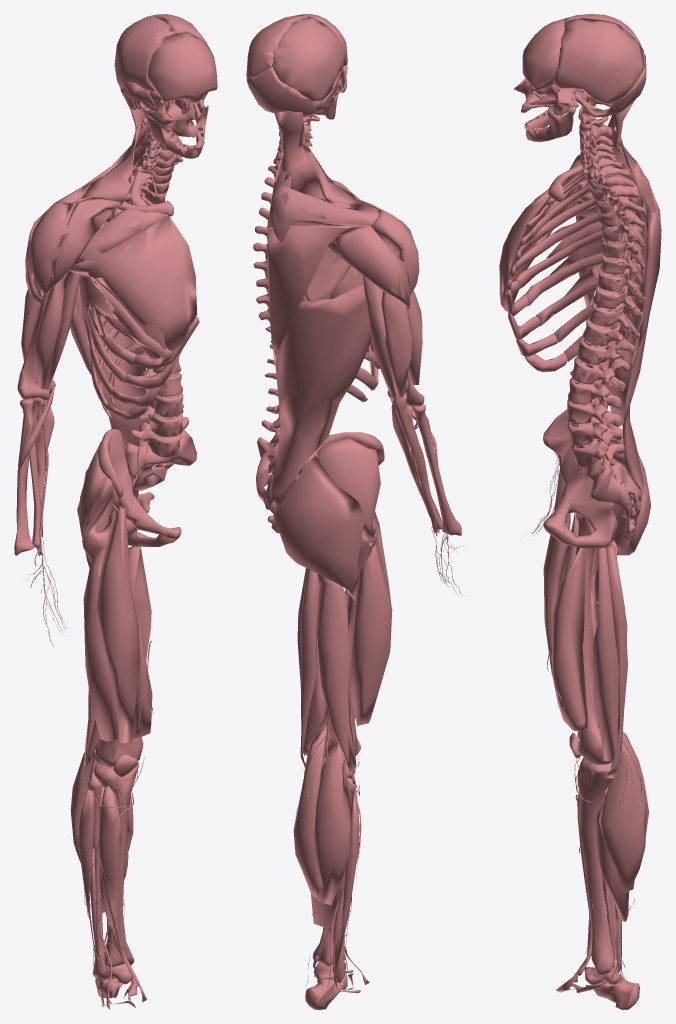
The model's file is muscles.glb.
3 renders of one model, left to right at view 1: azimuth 30°, elevation 25°; view 2: azimuth 150°, elevation 25°; view 3: azimuth 270°, elevation 25°, orthographic. The views are drawn at different scales.
Parts seen in each view (by area): view 1: chest__Sternocostal head of pectoralis major muscle, quads__Rectus femoris, context__Frontal bone, quads__Vastus lateralis muscle, context__Hip bone, chest__Pectoralis major, back__Latissimus dorsi, context__Tibialis anterior muscle, context__Sacrum (×2), context__Parietal bone right, context__Tibia, shoulders__Clavicular part of deltoid muscle (+33 smaller); view 2: back__Latissimus dorsi, glutes__Gluteus maximus muscle, quads__Vastus lateralis muscle, hamstrings__Long head of biceps femoris, back__Ascending part of Trapezius muscle, calves__Lateral head of gastrocnemius, context__Parietal bone right, glutes__Gluteus medius muscle, back__Descending part of Trapezius muscle, shoulders__Spinal part of deltoid muscle, calves__Medial head of gastrocnemius, back__Transverse part of trapezius muscle (+23 smaller); view 3: context__Parietal bone left, quads__Vastus medialis muscle, context__Hip bone, calves__Medial head of gastrocnemius, context__Tibia, hamstrings__Semimembranosus muscle, context__Femur, back__Latissimus dorsi, hamstrings__Semitendinosus muscle, context__Sacrum, back__Serratus anterior muscle, context__Frontal bone (+47 smaller).
Boxes of the visible parts, <box> form: chest__Sternocostal head of pectoralis major muscle: <box>69,218,197,352</box>; quads__Rectus femoris: <box>97,504,140,743</box>; context__Frontal bone: <box>148,31,217,102</box>; quads__Vastus lateralis muscle: <box>83,549,118,741</box>; context__Hip bone: <box>98,429,181,546</box>; chest__Pectoralis major: <box>69,210,184,360</box>; back__Latissimus dorsi: <box>63,272,145,446</box>; context__Tibialis anterior muscle: <box>98,786,146,1002</box>; context__Sacrum (×2): <box>125,430,196,490</box>; context__Parietal bone right: <box>114,16,174,91</box>; context__Tibia: <box>93,762,138,967</box>; shoulders__Clavicular part of deltoid muscle: <box>45,197,121,294</box>; back__Latissimus dorsi: <box>271,284,371,512</box>; glutes__Gluteus maximus muscle: <box>273,456,364,600</box>; quads__Vastus lateralis muscle: <box>350,544,392,725</box>; hamstrings__Long head of biceps femoris: <box>317,573,355,772</box>; back__Ascending part of Trapezius muscle: <box>267,225,359,366</box>; calves__Lateral head of gastrocnemius: <box>314,741,350,905</box>; context__Parietal bone right: <box>272,16,344,102</box>; glutes__Gluteus medius muscle: <box>317,439,380,546</box>; back__Descending part of Trapezius muscle: <box>274,111,364,204</box>; shoulders__Spinal part of deltoid muscle: <box>327,225,410,309</box>; calves__Medial head of gastrocnemius: <box>293,725,327,898</box>; back__Transverse part of trapezius muscle: <box>267,181,379,228</box>; context__Parietal bone left: <box>553,18,644,104</box>; quads__Vastus medialis muscle: <box>551,547,587,731</box>; context__Hip bone: <box>543,409,625,548</box>; calves__Medial head of gastrocnemius: <box>597,724,646,893</box>; context__Tibia: <box>577,757,618,975</box>; hamstrings__Semimembranosus muscle: <box>592,547,623,761</box>; context__Femur: <box>575,513,611,764</box>; back__Latissimus dorsi: <box>606,263,649,503</box>; hamstrings__Semitendinosus muscle: <box>605,544,627,778</box>; context__Sacrum: <box>582,457,641,519</box>; back__Serratus anterior muscle: <box>546,174,647,306</box>; context__Frontal bone: <box>522,18,565,90</box>.
Size of the model in its own units: 0.3631 by 1.69 by 0.2465.
